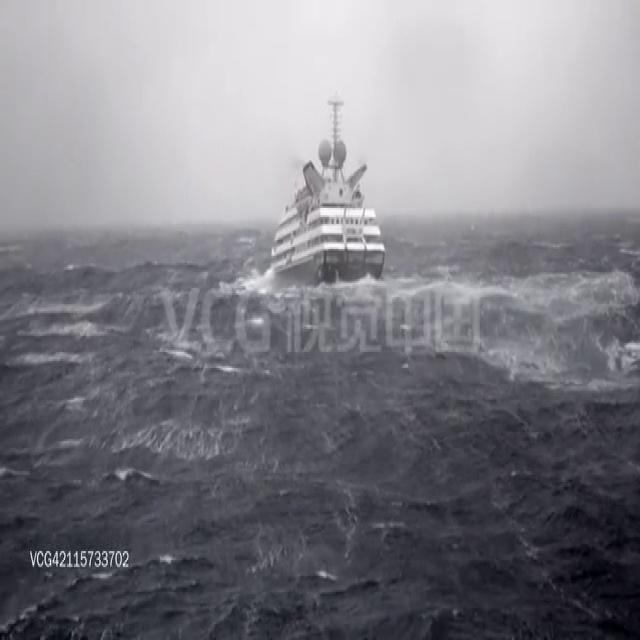passenger ship: (268, 91, 385, 285)
